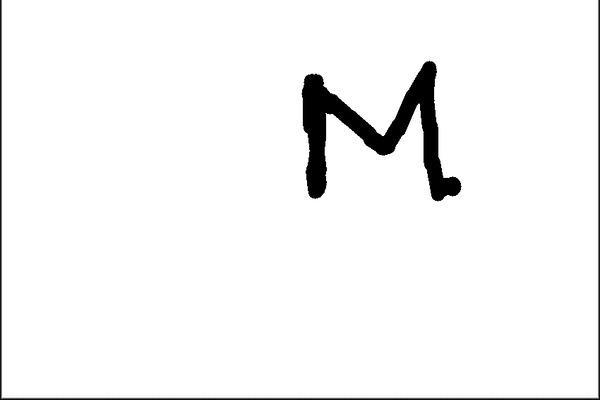M: (294, 58, 465, 203)
